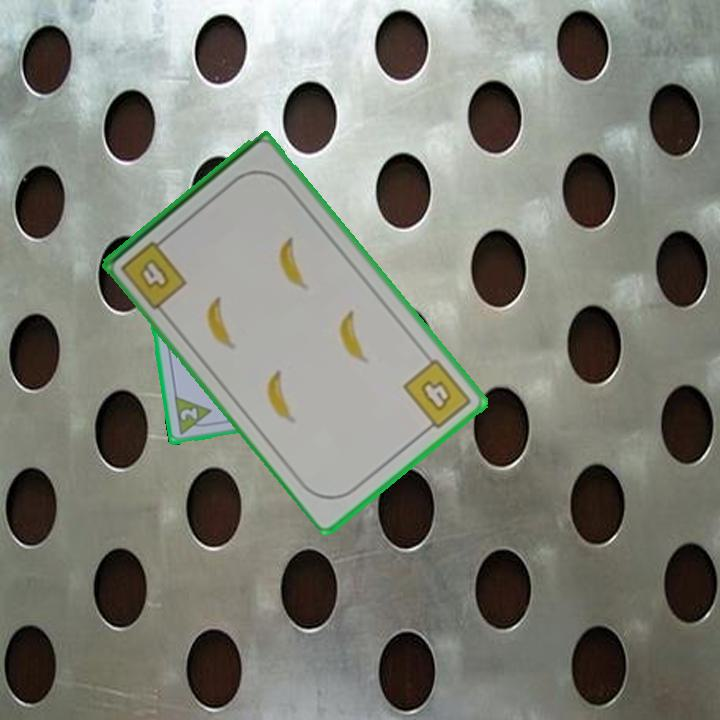2p: (176, 405, 200, 424)
4b: (400, 355, 475, 437), (117, 231, 191, 313)
